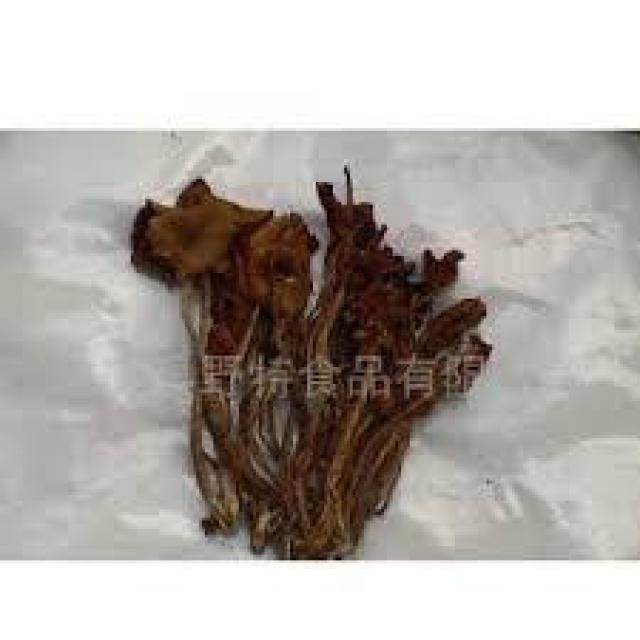Agrocybe aegerita: (140, 168, 490, 551)
